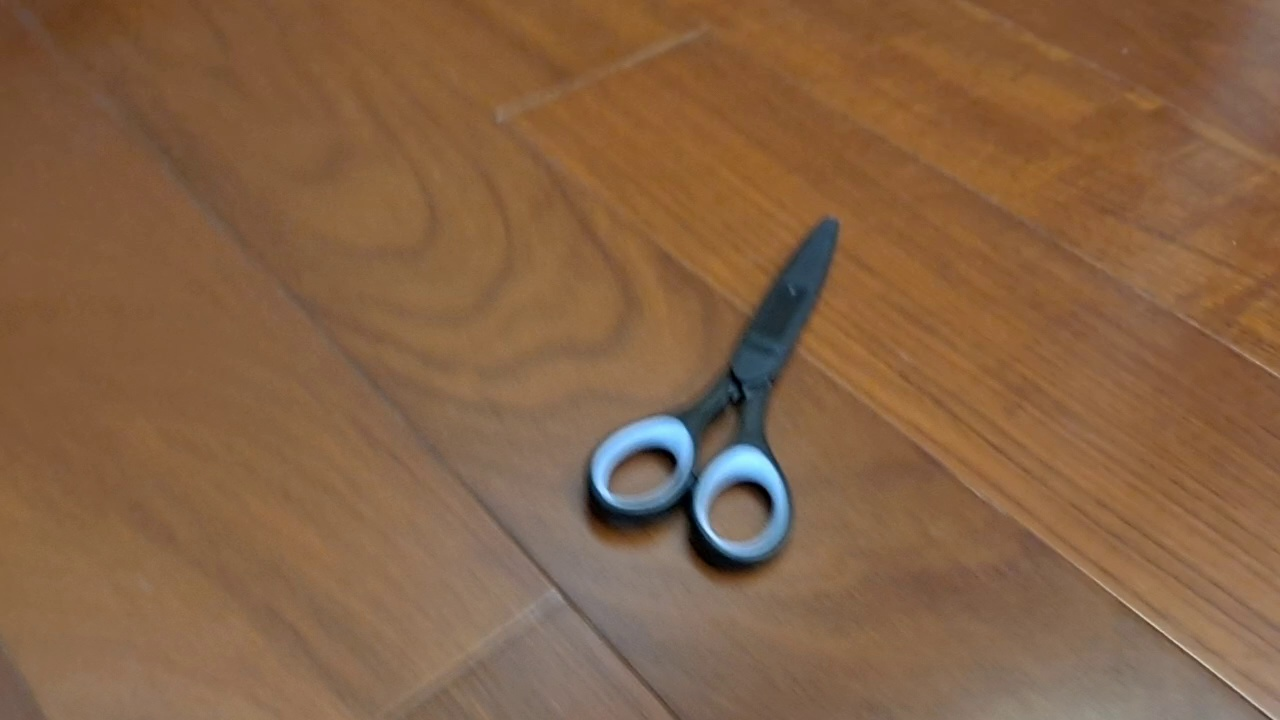scissors: (583, 215, 841, 575)
